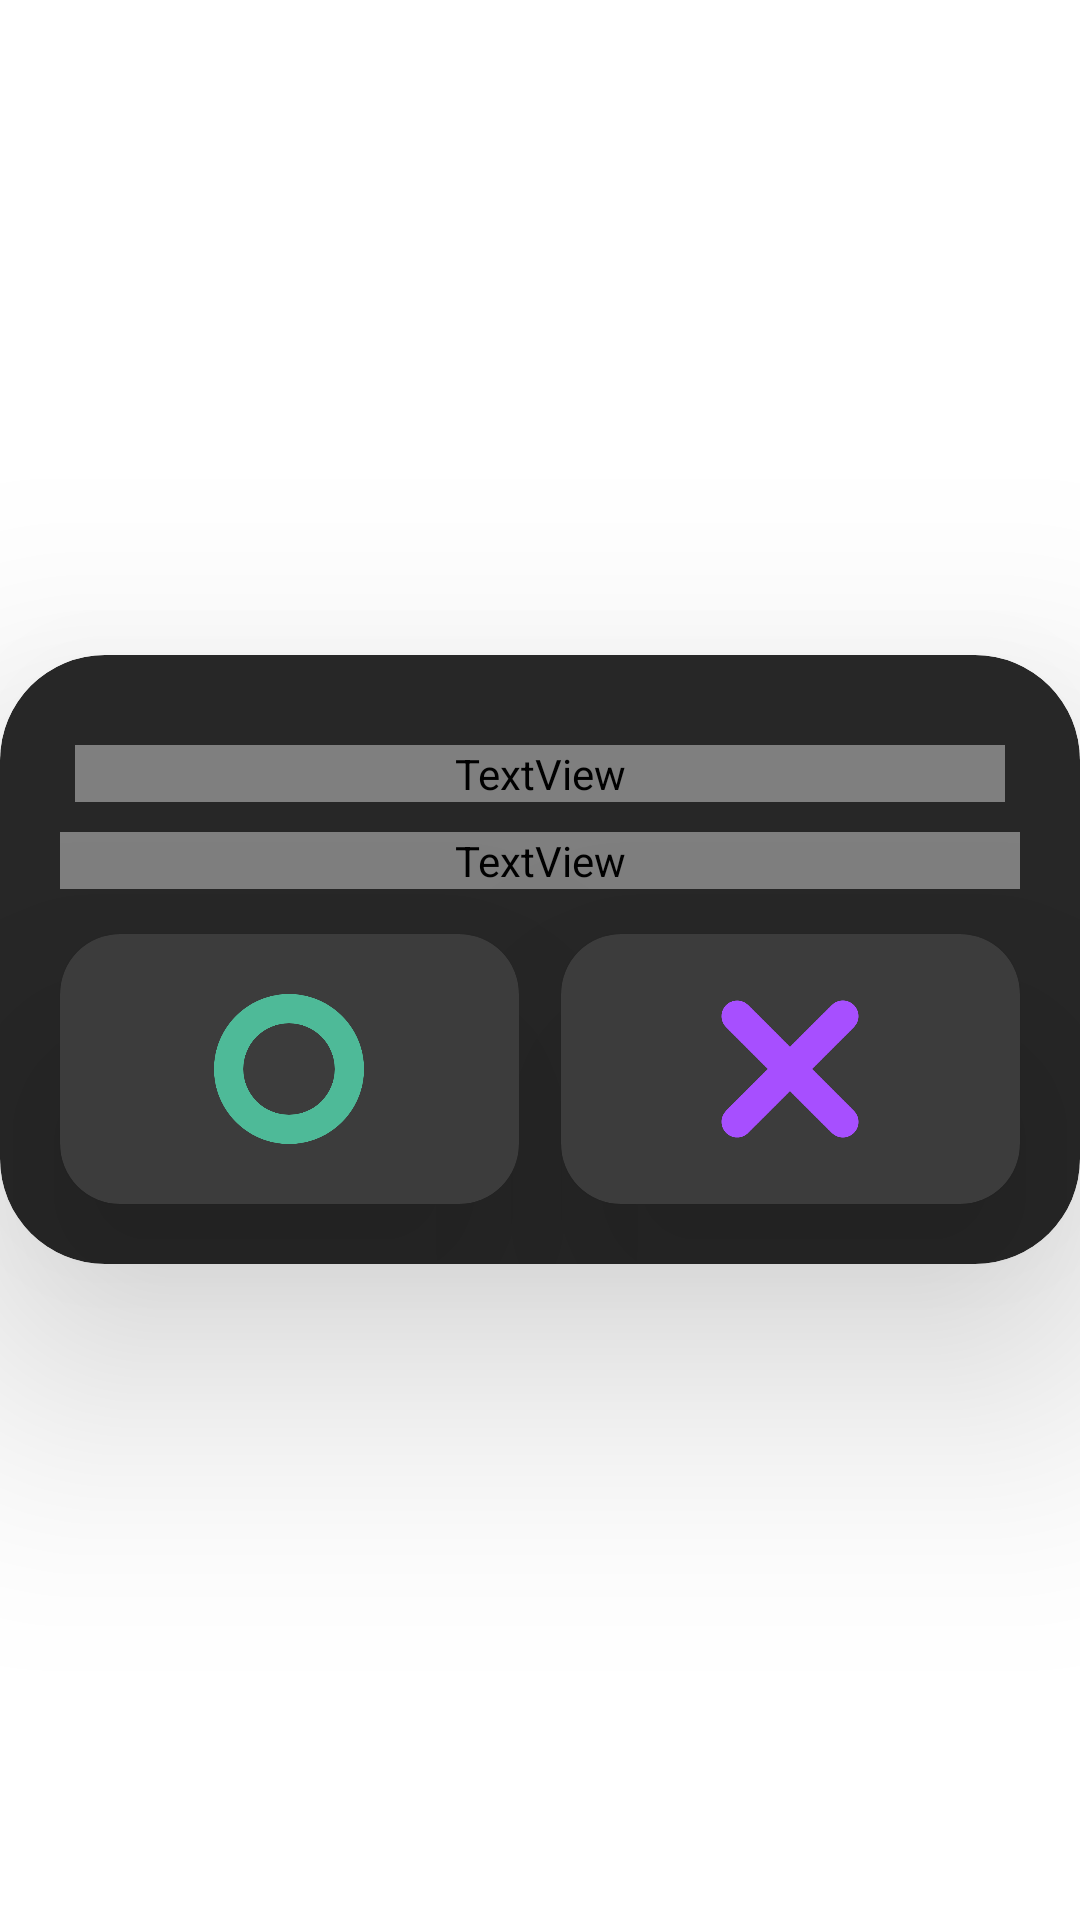

Point at icon controls on the screen. Image size 1080x1920, points as (x,y).
jeu croix: (790,1069)
jeu rond: (289,1069)
